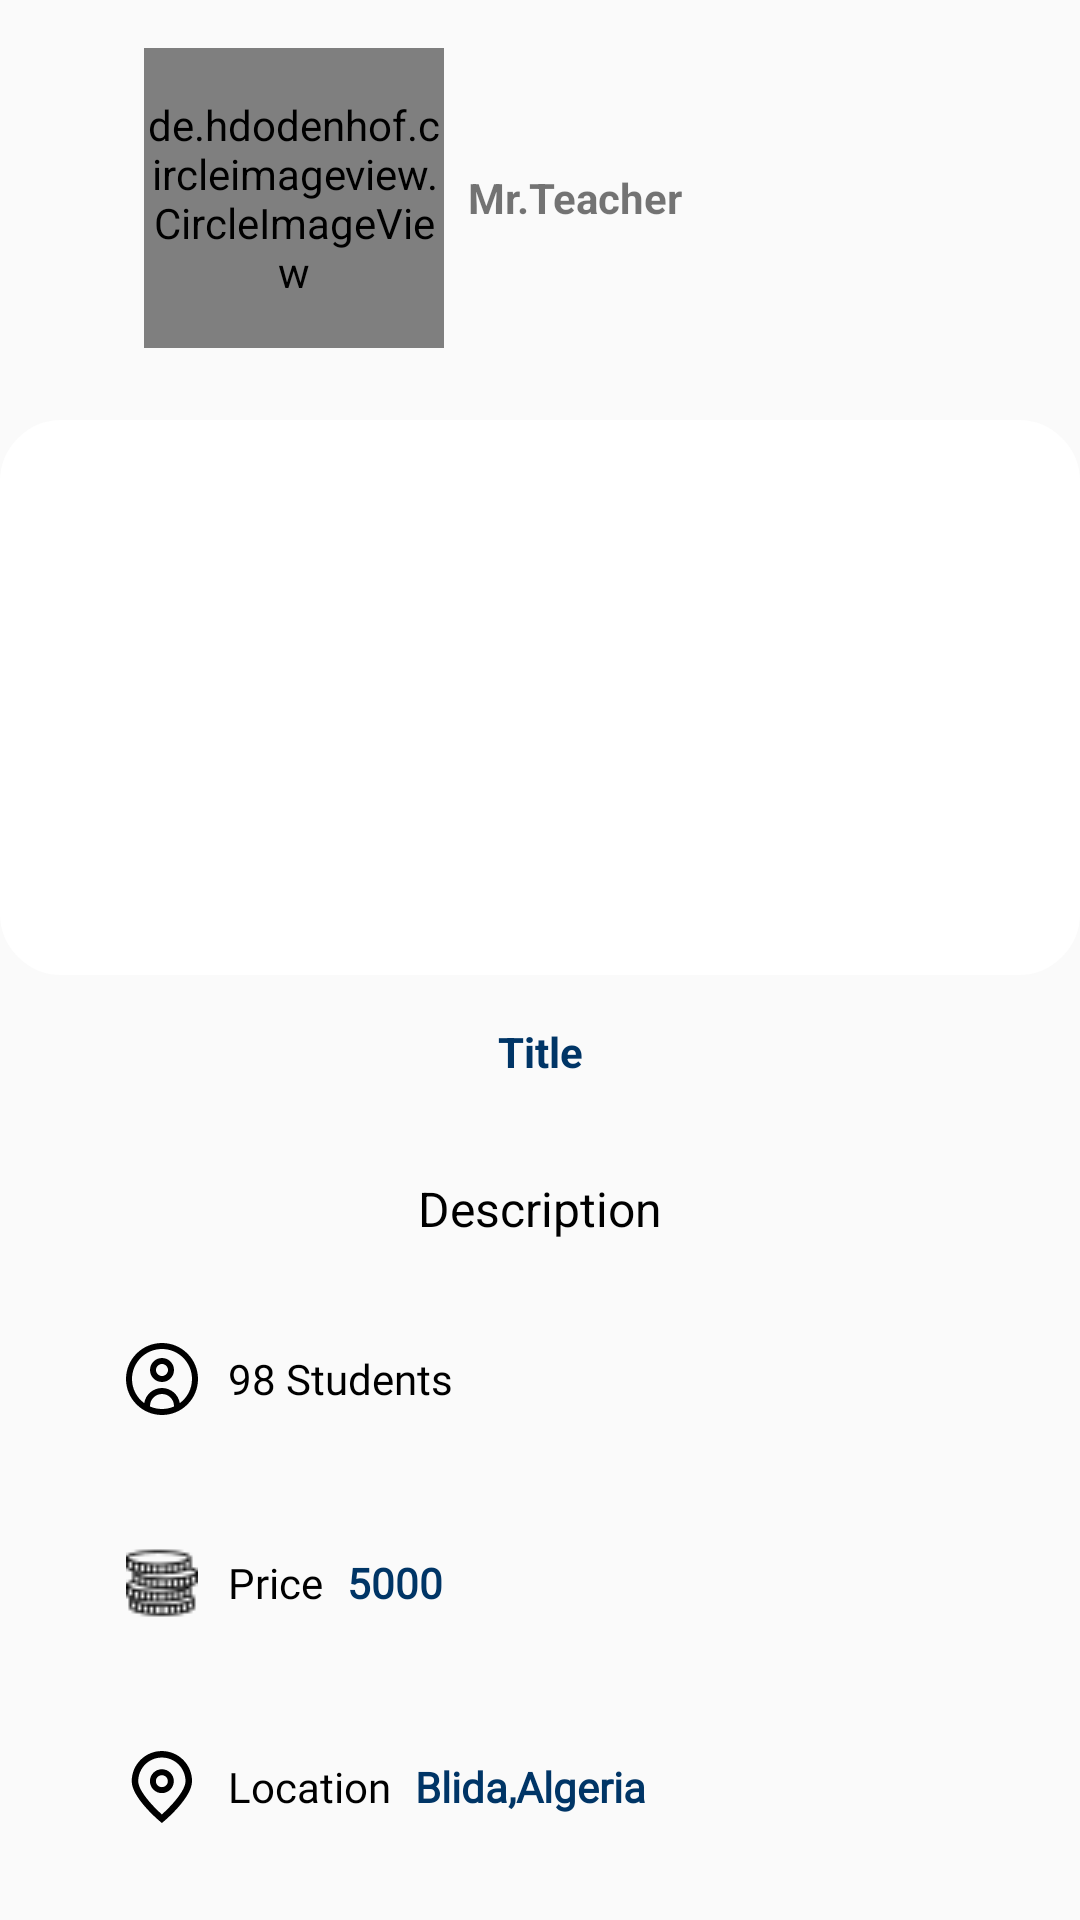

Screen size 1080 × 1920. Icon name, then its center in pixels as [x,y]:
coins: [162,1583]
marqueur: [161,1787]
user circle: [162,1379]
